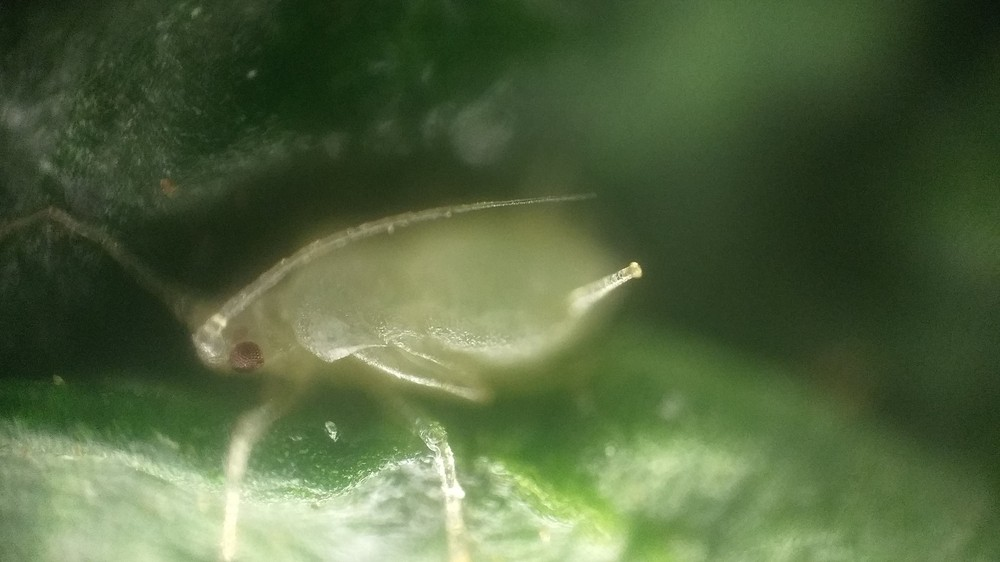Pulgon: (68, 141, 715, 562)
